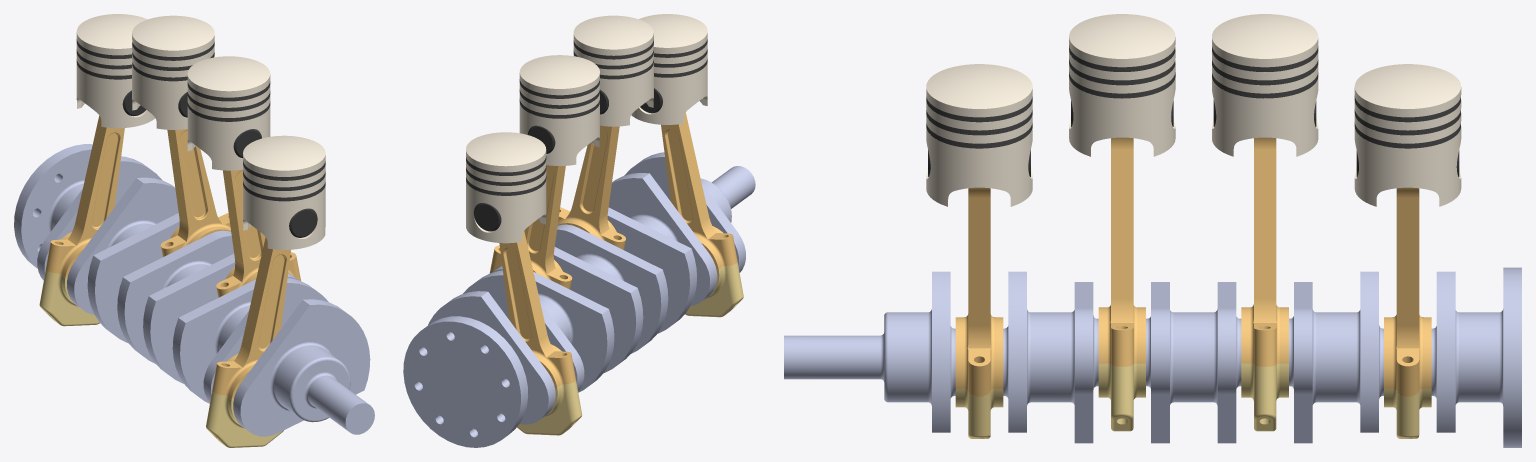
File: piston_engine.glb
The picture shows the model from 3 angles, left to right: view 1: azimuth 30°, elevation 25°; view 2: azimuth 150°, elevation 25°; view 3: azimuth 270°, elevation 25°; orthographic projection. The views are drawn at different scales.
Parts seen in each view (by area): view 1: 3.Crankshaft-2, 1.Piston-1, 1.Piston-3, 1.Piston-4, 1.Piston-5, 4. Connecting Rod-1, 4. Connecting Rod-5, 4. Connecting Rod-4, 4. Connecting Rod-3, 5.connecting rod cap-1, 5.connecting rod cap-5, 6. Piston pin-1 (+8 smaller); view 2: 3.Crankshaft-2, 1.Piston-5, 1.Piston-4, 1.Piston-3, 1.Piston-1, 4. Connecting Rod-5, 4. Connecting Rod-1, 4. Connecting Rod-3, 4. Connecting Rod-4, 5.connecting rod cap-5, 5.connecting rod cap-1, 6. Piston pin-5 (+2 smaller); view 3: 3.Crankshaft-2, 1.Piston-5, 1.Piston-3, 1.Piston-1, 1.Piston-4, 4. Connecting Rod-5, 4. Connecting Rod-3, 4. Connecting Rod-4, 4. Connecting Rod-1, 5.connecting rod cap-3, 5.connecting rod cap-4, 5.connecting rod cap-5 (+1 smaller).
Boxes of the visible parts, left/top/right/bottom form: 3.Crankshaft-2: left=14, top=144, right=374, bottom=436; 1.Piston-1: left=243, top=135, right=325, bottom=249; 1.Piston-3: left=187, top=56, right=270, bottom=170; 1.Piston-4: left=132, top=15, right=214, bottom=129; 1.Piston-5: left=76, top=14, right=154, bottom=128; 4. Connecting Rod-1: left=212, top=237, right=290, bottom=398; 4. Connecting Rod-5: left=46, top=116, right=124, bottom=276; 4. Connecting Rod-4: left=160, top=129, right=230, bottom=256; 4. Connecting Rod-3: left=216, top=169, right=300, bottom=297; 5.connecting rod cap-1: left=206, top=391, right=283, bottom=447; 5.connecting rod cap-5: left=39, top=269, right=99, bottom=326; 6. Piston pin-1: left=289, top=208, right=317, bottom=237; 3.Crankshaft-2: left=403, top=152, right=755, bottom=447; 1.Piston-5: left=466, top=132, right=546, bottom=243; 1.Piston-4: left=519, top=55, right=599, bottom=165; 1.Piston-3: left=573, top=15, right=653, bottom=126; 1.Piston-1: left=631, top=14, right=707, bottom=124; 4. Connecting Rod-5: left=499, top=231, right=575, bottom=387; 4. Connecting Rod-1: left=661, top=112, right=737, bottom=269; 4. Connecting Rod-3: left=557, top=125, right=625, bottom=249; 4. Connecting Rod-4: left=490, top=165, right=572, bottom=289; 5.connecting rod cap-5: left=517, top=380, right=582, bottom=435; 5.connecting rod cap-1: left=685, top=262, right=743, bottom=317; 6. Piston pin-5: left=473, top=203, right=501, bottom=231; 3.Crankshaft-2: left=784, top=267, right=1521, bottom=447; 1.Piston-5: left=1354, top=64, right=1461, bottom=206; 1.Piston-3: left=1069, top=14, right=1175, bottom=156; 1.Piston-1: left=926, top=64, right=1032, bottom=206; 1.Piston-4: left=1212, top=14, right=1318, bottom=156; 4. Connecting Rod-5: left=1384, top=187, right=1431, bottom=396; 4. Connecting Rod-3: left=1098, top=137, right=1145, bottom=366; 4. Connecting Rod-4: left=1241, top=137, right=1288, bottom=366; 4. Connecting Rod-1: left=955, top=187, right=1003, bottom=396; 5.connecting rod cap-3: left=1098, top=363, right=1145, bottom=431; 5.connecting rod cap-4: left=1241, top=363, right=1288, bottom=431; 5.connecting rod cap-5: left=1384, top=388, right=1431, bottom=438.
Bounding box in the file's own units: 0.1831 × 0.3722 × 0.589.
